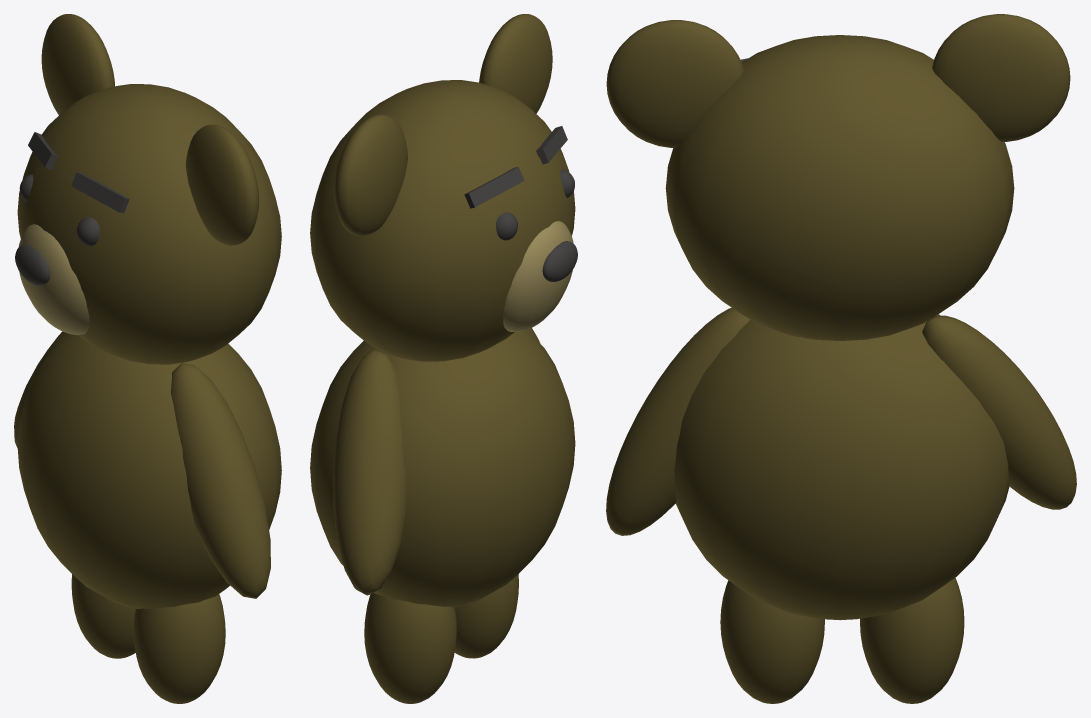
File: Bear.fbx
3 renders of one model, left to right at view 1: azimuth 30°, elevation 25°; view 2: azimuth 150°, elevation 25°; view 3: azimuth 270°, elevation 25°, orthographic. The views are drawn at different scales.
Parts seen in each view (by area): view 1: head, body, rightarm, rightleg, rightear, leftear, snout, leftleg, nose, righteyebrow, lefteyebrow, righteye (+1 smaller); view 2: head, body, leftarm, leftleg, leftear, rightear, snout, rightleg, nose, lefteyebrow, righteyebrow, lefteye; view 3: head, body, leftear, rightear, leftarm, rightarm, leftleg, rightleg.
Boxes of the visible parts, x1=… form: head: x1=17, y1=84, x2=281, y2=364; body: x1=17, y1=333, x2=281, y2=608; rightarm: x1=171, y1=363, x2=270, y2=598; rightleg: x1=133, y1=594, x2=225, y2=703; rightear: x1=185, y1=124, x2=259, y2=245; leftear: x1=41, y1=14, x2=114, y2=114; snout: x1=18, y1=224, x2=89, y2=334; leftleg: x1=71, y1=574, x2=135, y2=658; nose: x1=15, y1=244, x2=50, y2=285; righteyebrow: x1=71, y1=172, x2=129, y2=213; lefteyebrow: x1=28, y1=132, x2=58, y2=169; righteye: x1=76, y1=217, x2=99, y2=246; head: x1=310, y1=80, x2=575, y2=361; body: x1=310, y1=330, x2=575, y2=607; leftarm: x1=333, y1=350, x2=407, y2=595; leftleg: x1=364, y1=592, x2=456, y2=703; leftear: x1=334, y1=114, x2=407, y2=235; rightear: x1=479, y1=14, x2=552, y2=113; snout: x1=503, y1=221, x2=573, y2=331; rightleg: x1=454, y1=574, x2=518, y2=658; nose: x1=542, y1=241, x2=577, y2=281; lefteyebrow: x1=464, y1=166, x2=524, y2=208; righteyebrow: x1=536, y1=126, x2=567, y2=164; lefteye: x1=496, y1=212, x2=517, y2=240; head: x1=665, y1=35, x2=1014, y2=340; body: x1=674, y1=314, x2=1009, y2=620; leftear: x1=932, y1=14, x2=1070, y2=142; rightear: x1=606, y1=20, x2=743, y2=147; leftarm: x1=922, y1=315, x2=1076, y2=509; rightarm: x1=606, y1=307, x2=750, y2=535; leftleg: x1=860, y1=577, x2=964, y2=703; rightleg: x1=720, y1=580, x2=824, y2=703.
Bounding box in the file's own units: 1.74 × 4.34 × 2.7.
